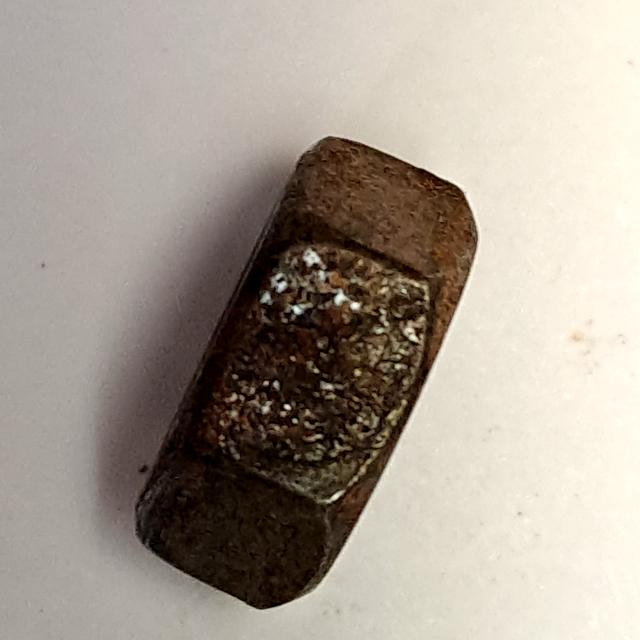Side_Rust: (122, 117, 487, 618)
